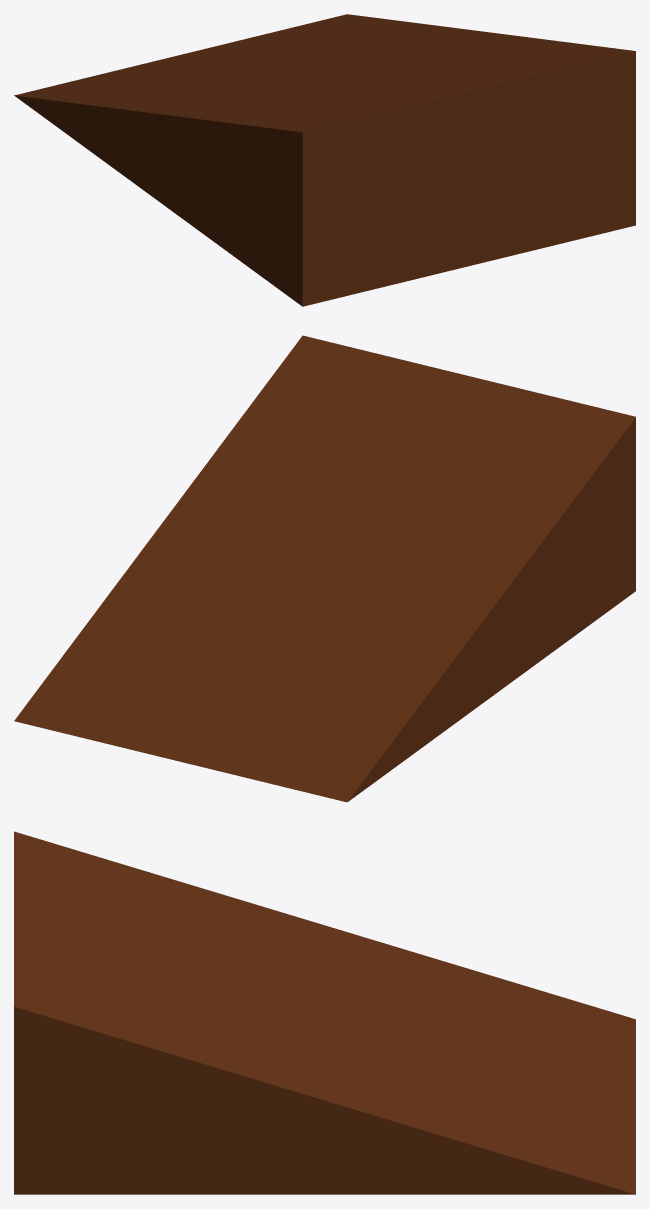
File: ramp1.fbx
3 renders of one model, top to bottom at view 1: azimuth 30°, elevation 25°; view 2: azimuth 150°, elevation 25°; view 3: azimuth 270°, elevation 25°, orthographic. The views are drawn at different scales.
Parts seen in each view (by area): view 1: Ramp 1; view 2: Ramp 1; view 3: Ramp 1.
Part boxes in pixels (x1,y1,x2,y2): Ramp 1: (14, 14, 635, 306); Ramp 1: (14, 335, 635, 802); Ramp 1: (14, 831, 635, 1194).
Size of the model in its own units: 200 by 100 by 300.
